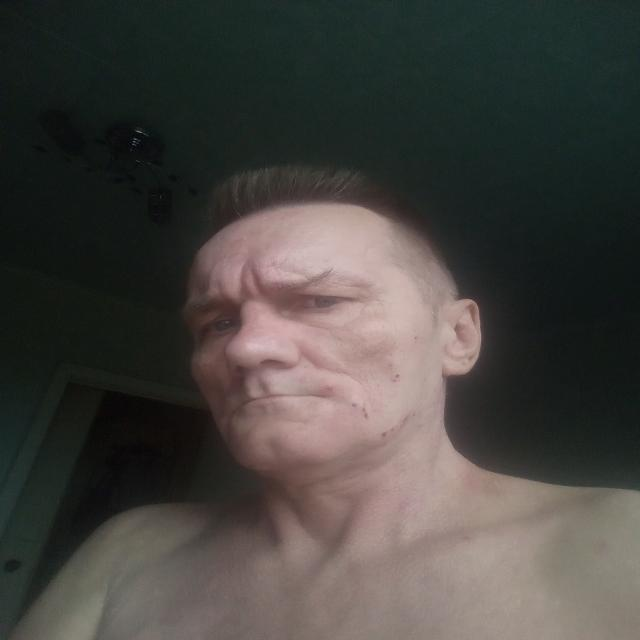Acne: (358, 404, 376, 420), (392, 371, 404, 383), (323, 383, 337, 392), (378, 427, 389, 437), (389, 423, 399, 432), (402, 411, 409, 423), (382, 361, 395, 367), (414, 333, 421, 341), (380, 325, 388, 331), (351, 401, 357, 408)
Englarged-Pores: (344, 331, 379, 365)
Wrinkles: (218, 263, 268, 300), (356, 371, 388, 405), (308, 324, 354, 343), (312, 360, 358, 379), (280, 414, 320, 430), (360, 296, 390, 315), (287, 263, 309, 280)
